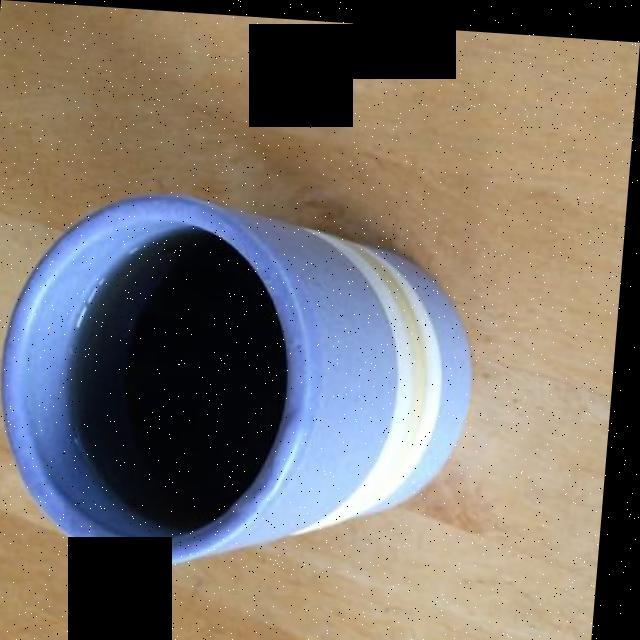tea: (92, 229, 291, 528)
